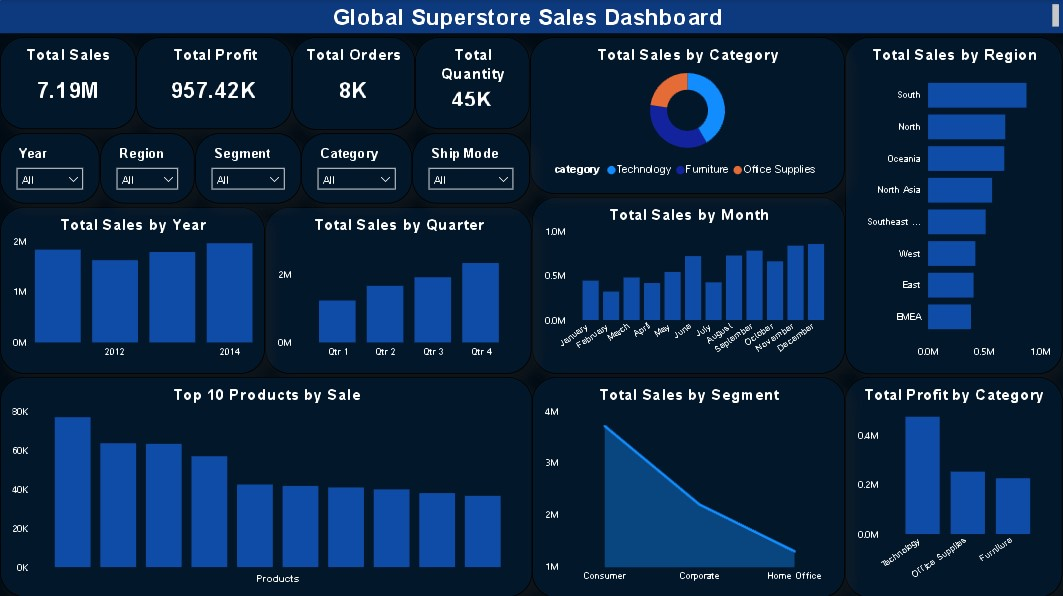

This screenshot's page, from the dashboard's own definition file:
{"tool":"powerbi","page":{"name":"Page 1","canvas":[1280,720],"ordinal":0},"visuals":[{"type":"cardVisual","title":"Total Sales","fields":{"Data":["SuperStoreOrders.total sales"]},"box":[0,44.5,163.7,110.8],"z":0},{"type":"cardVisual","title":"Total Profit","fields":{"Data":["Sum(SuperStoreOrders.profit)"]},"box":[163.7,44.5,187.8,110.8],"z":1000},{"type":"cardVisual","title":"Total Orders","fields":{"Data":["SuperStoreOrders.total orders"]},"box":[351.6,44.5,148.1,112],"z":2000},{"type":"cardVisual","title":"Total Quantity","fields":{"Data":["Sum(SuperStoreOrders.quantity)"]},"box":[499.7,44.5,138.5,110.8],"z":3000},{"type":"clusteredColumnChart","title":"Total Sales by Month","fields":{"Y":["SuperStoreOrders.total sales"],"Category":["SuperStoreOrders.order_date.Variation.Date Hierarchy.Month"]},"box":[638.1,237.2,379.3,213.1],"z":4000},{"type":"clusteredColumnChart","title":"Total Sales by Quarter","fields":{"Category":["SuperStoreOrders.order_date.Variation.Date Hierarchy.Quarter"],"Y":["SuperStoreOrders.total sales"]},"box":[316.7,249.2,321.5,201.1],"z":5000},{"type":"clusteredColumnChart","title":"Total Sales by Year","fields":{"Y":["SuperStoreOrders.total sales"],"Category":["SuperStoreOrders.year"]},"box":[0,249.2,316.7,201.1],"z":6000},{"type":"clusteredBarChart","title":"Total Sales by Region","fields":{"Category":["SuperStoreOrders.region"],"Y":["SuperStoreOrders.total sales"]},"box":[1017.4,44.5,262.5,405.8],"z":7000},{"type":"donutChart","title":"Total Sales by Category","fields":{"Category":["SuperStoreOrders.category"],"Y":["SuperStoreOrders.total sales"]},"box":[638.1,45,379.3,189],"z":8000},{"type":"columnChart","title":"Top 10 Products by Sale","fields":{"Category":["SuperStoreOrders.product_name"],"Y":["SuperStoreOrders.total sales"]},"box":[0,453.9,640.5,264.9],"z":9000},{"type":"clusteredColumnChart","title":"Profit by Category","fields":{"Category":["SuperStoreOrders.category"],"Y":["Sum(SuperStoreOrders.profit)"]},"box":[1017.4,453.9,262,266.1],"z":10000},{"type":"stackedAreaChart","title":"Total Sales by Segment","fields":{"Category":["SuperStoreOrders.segment"],"Y":["SuperStoreOrders.total sales"]},"box":[640.5,453.9,376.9,266.1],"z":11000},{"type":"slicer","fields":{"Values":["SuperStoreOrders.year"]},"box":[0,160,120.4,85.5],"z":12000},{"type":"slicer","fields":{"Values":["SuperStoreOrders.region"]},"box":[120.4,160.1,114.4,85.5],"z":13000},{"type":"slicer","fields":{"Values":["SuperStoreOrders.segment"]},"box":[234.8,160.1,127.6,85.5],"z":14000},{"type":"slicer","fields":{"Values":["SuperStoreOrders.category"]},"box":[362.4,160.1,133.6,85.5],"z":15000},{"type":"slicer","fields":{"Values":["SuperStoreOrders.ship_mode"]},"box":[496.1,160.1,142.1,85.5],"z":16000},{"type":"textbox","box":[0,0,1280.1,40.3],"z":17000}]}

Visuals, with their boxes in screenshot pixels (x1, y1, x2, y2), scaled from the page's 1280x720 canvas onto the 1063x596 screenshot:
"Total Sales" cardVisual: crop(0, 37, 136, 129)
"Total Profit" cardVisual: crop(136, 37, 292, 129)
"Total Orders" cardVisual: crop(292, 37, 415, 130)
"Total Quantity" cardVisual: crop(415, 37, 530, 129)
"Total Sales by Month" clusteredColumnChart: crop(530, 196, 845, 373)
"Total Sales by Quarter" clusteredColumnChart: crop(263, 206, 530, 373)
"Total Sales by Year" clusteredColumnChart: crop(0, 206, 263, 373)
"Total Sales by Region" clusteredBarChart: crop(845, 37, 1062, 373)
"Total Sales by Category" donutChart: crop(530, 37, 845, 194)
"Top 10 Products by Sale" columnChart: crop(0, 376, 532, 595)
"Profit by Category" clusteredColumnChart: crop(845, 376, 1062, 595)
"Total Sales by Segment" stackedAreaChart: crop(532, 376, 845, 595)
slicer - SuperStoreOrders.year: crop(0, 132, 100, 203)
slicer - SuperStoreOrders.region: crop(100, 133, 195, 203)
slicer - SuperStoreOrders.segment: crop(195, 133, 301, 203)
slicer - SuperStoreOrders.category: crop(301, 133, 412, 203)
slicer - SuperStoreOrders.ship_mode: crop(412, 133, 530, 203)
textbox: crop(0, 0, 1062, 33)
